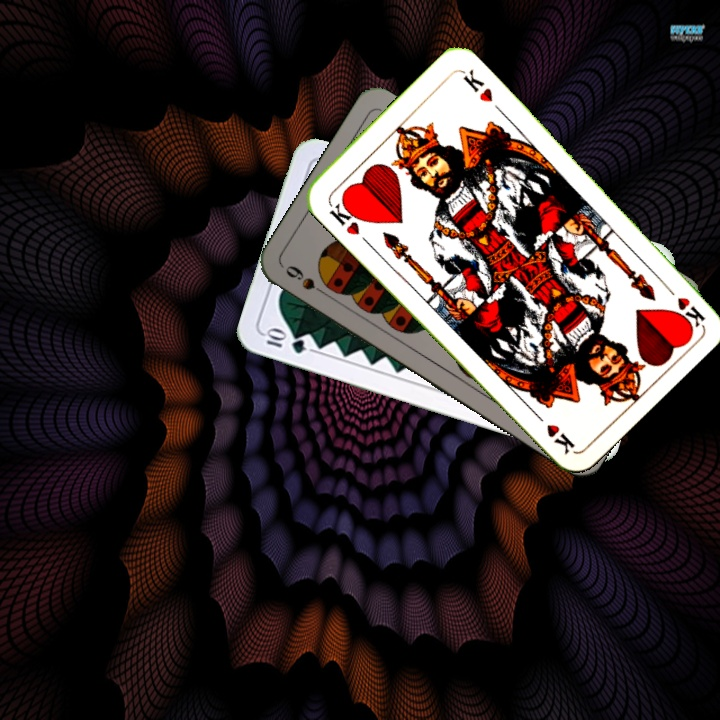G10: (260, 324, 309, 357)
HK: (658, 278, 707, 328), (324, 195, 365, 238)
S9: (281, 261, 334, 301)
